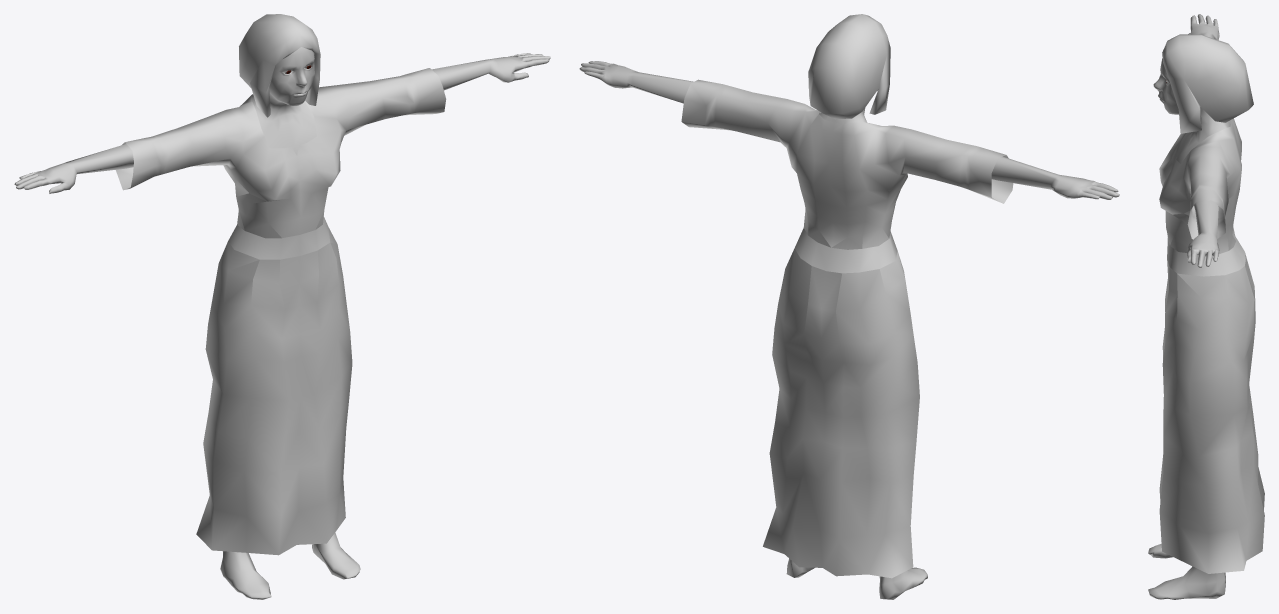
Rendered from Roupa.fbx.
3 renders of one model, left to right at view 1: azimuth 30°, elevation 25°; view 2: azimuth 150°, elevation 25°; view 3: azimuth 270°, elevation 25°, orthographic. The views are drawn at different scales.
Parts seen in each view (by area): view 1: Roupa, Corpo; view 2: Roupa, Corpo; view 3: Roupa, Corpo.
Part boxes in pixels (x1,y1,x2,y2): Roupa: (116, 14, 446, 555); Corpo: (14, 47, 550, 599); Roupa: (681, 14, 1013, 578); Corpo: (579, 61, 1119, 599); Roupa: (1159, 34, 1264, 573); Corpo: (1148, 14, 1230, 599).
Size of the model in its own units: 613 by 611 by 120.
